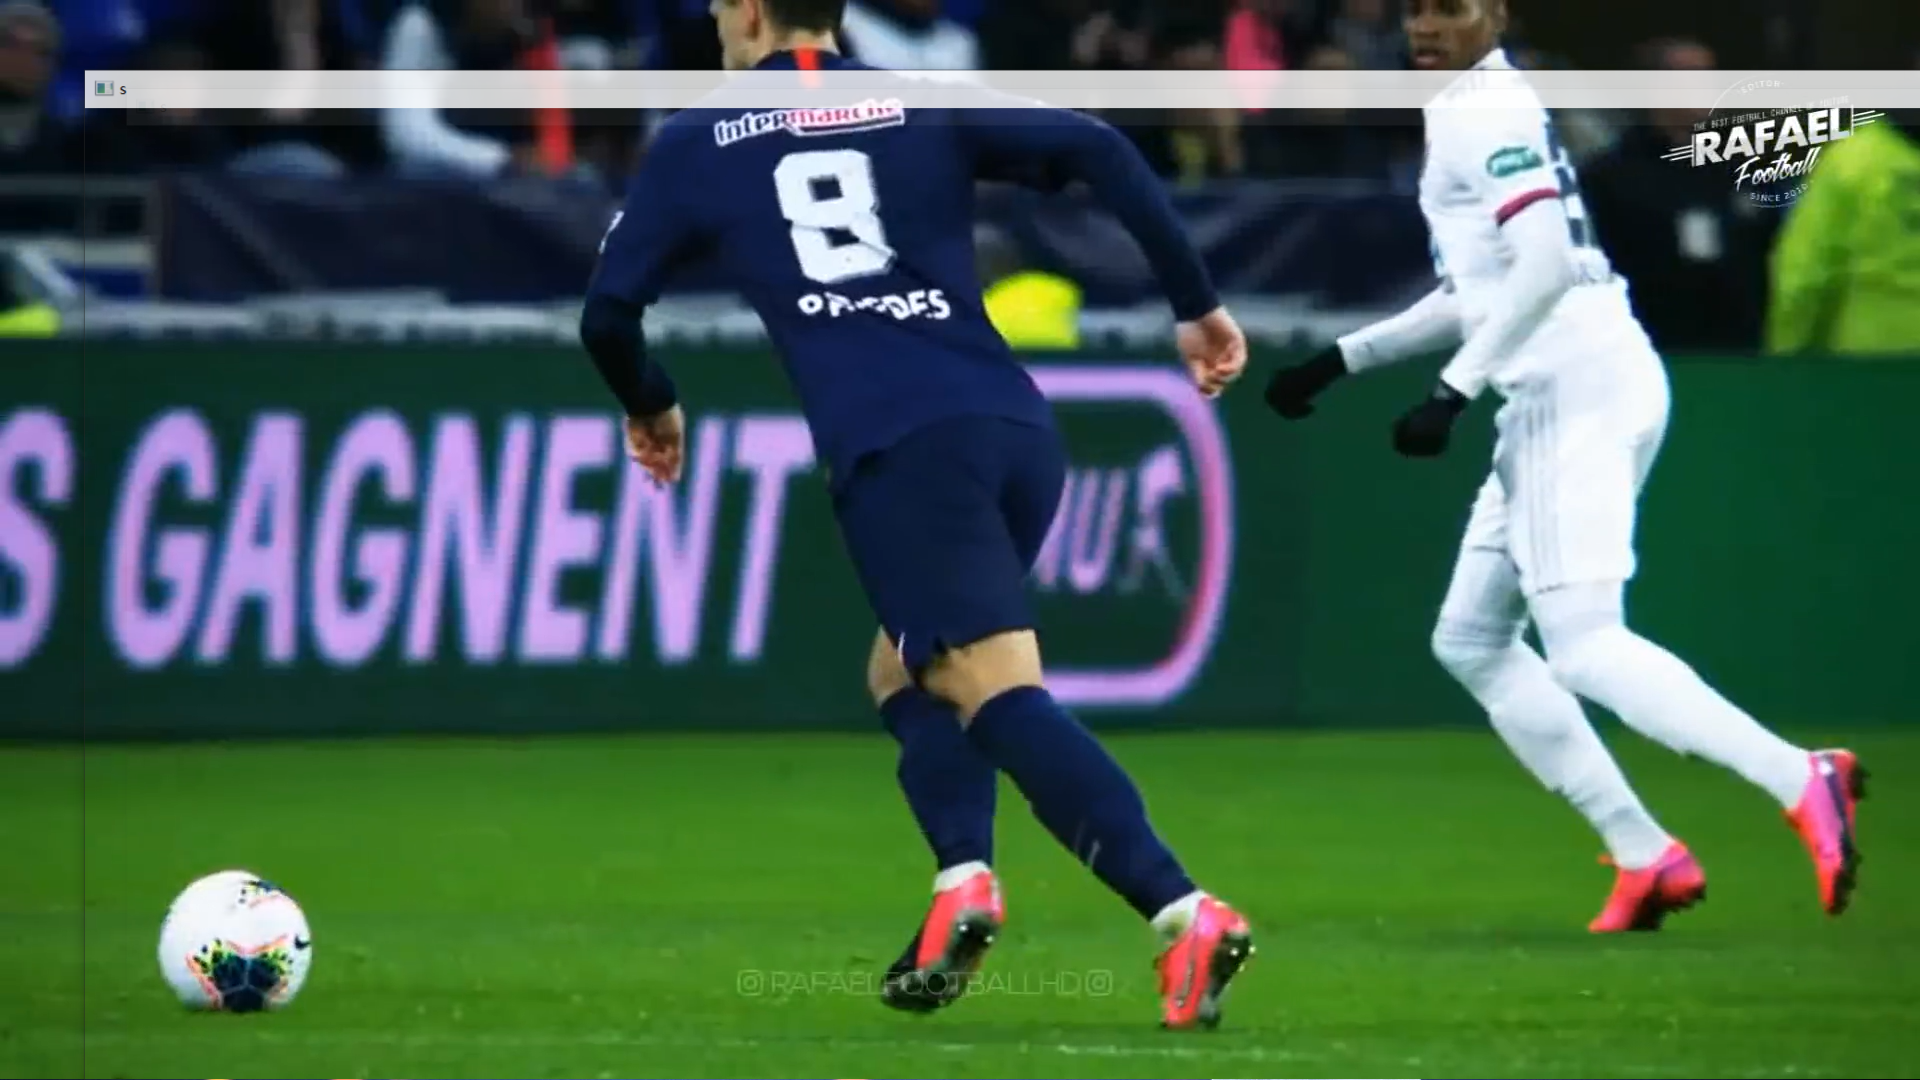ft: (152, 862, 323, 1025)
